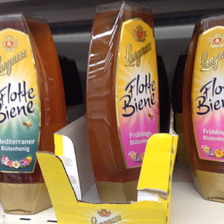honey: (88, 2, 165, 205), (1, 13, 67, 215), (185, 14, 224, 210)
